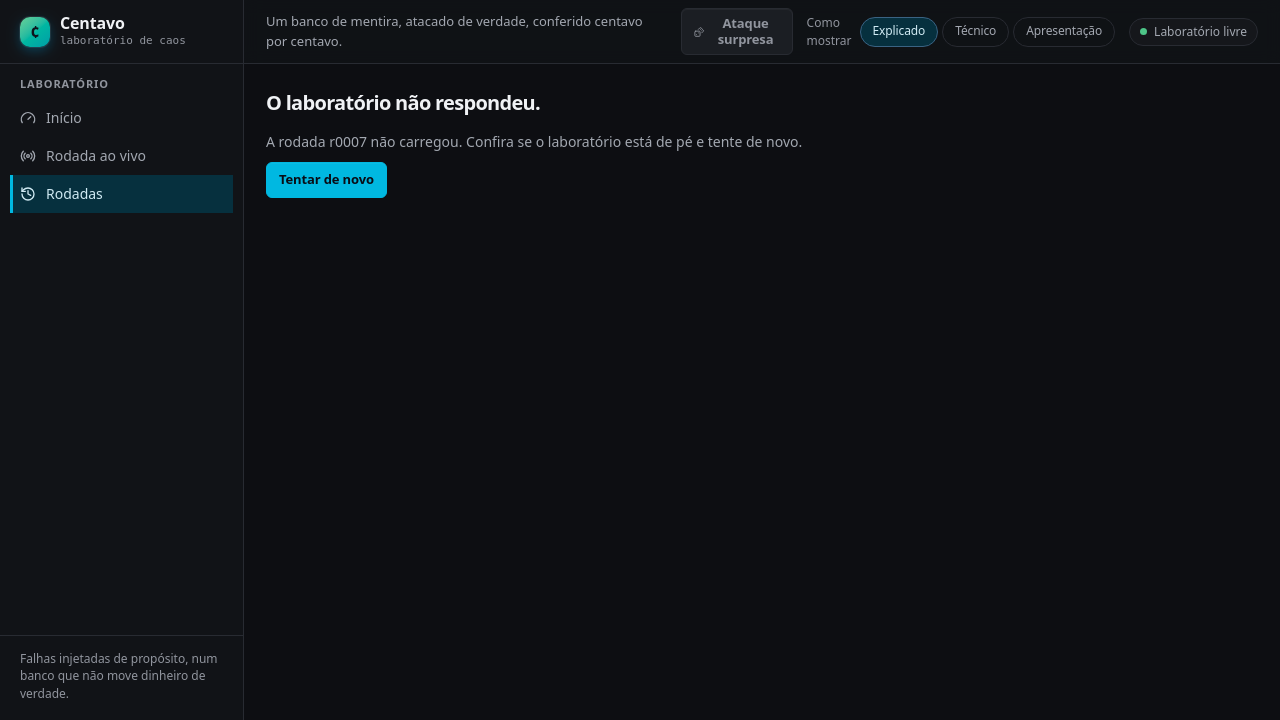
Test case: the round page › offers to try again when the lab does not answer, and opens a new stream
The width and height of the screenshot is (1280, 720).
Expected: the heading "O laboratório não respondeu." is shown, [266,88,540,118]
What coordinates should you click on to do the following:
click the button "Tentar de novo"
I would click on:
 (326, 180)
Its box is [266,162,387,198].
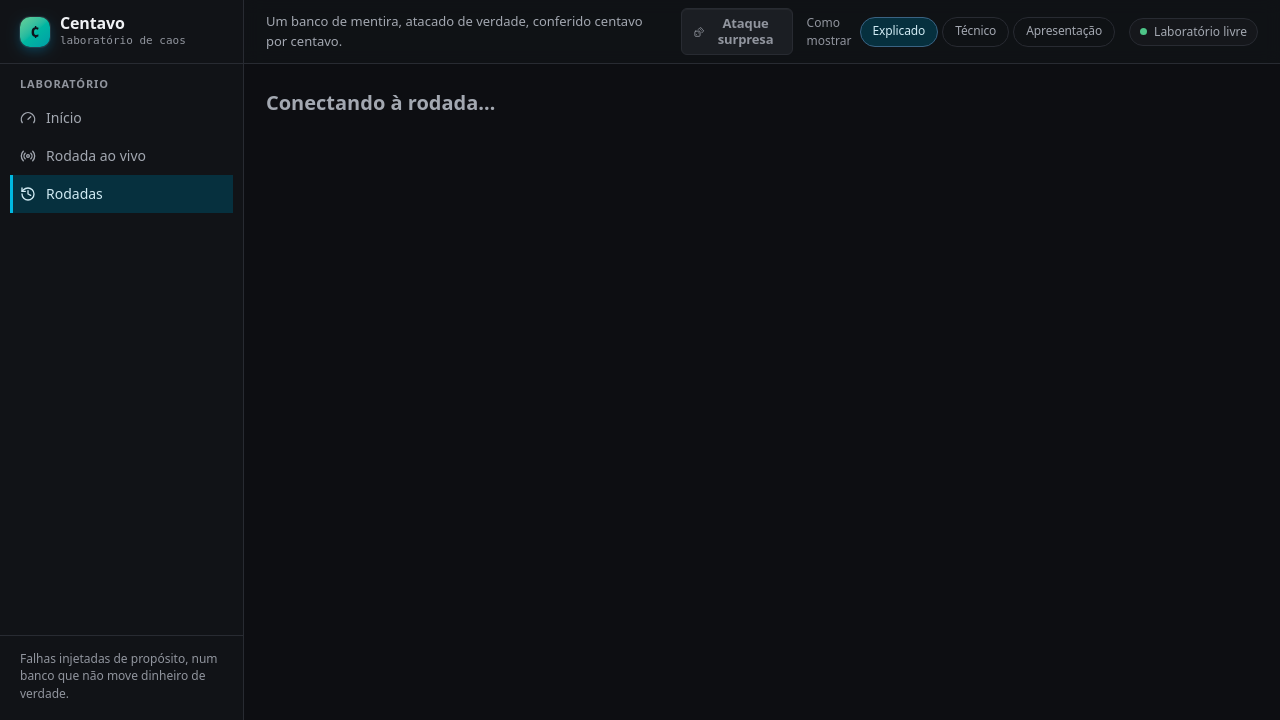
Expected: the heading "Conectando à rodada…" is shown, [266,89,495,116]
